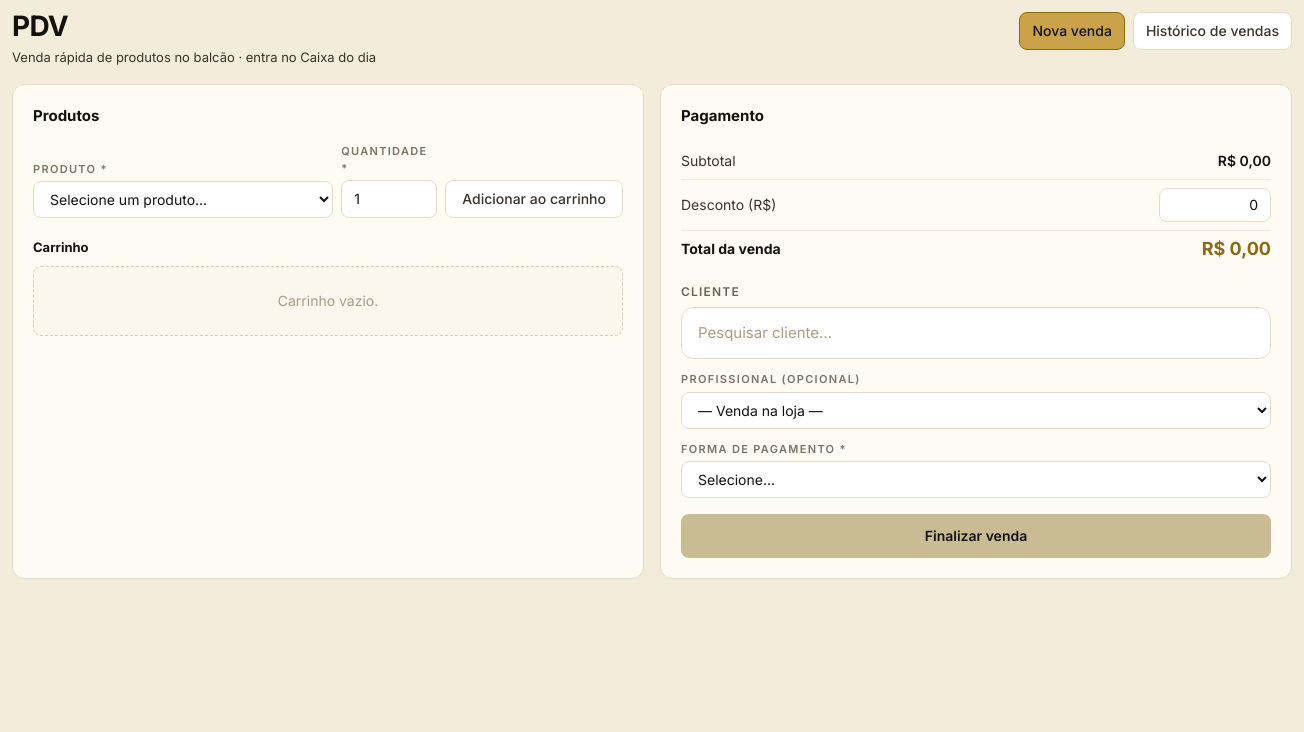
Test: Clientes — integração com PDV, Clube e Relatórios › PDV não oferece cliente inativo no seletor de cliente
# Abre a busca e confere a lista offered pelo cadastro oficial.
Focus the dropdown labelled "Cliente" at [976, 333], box [681,307,1271,359]
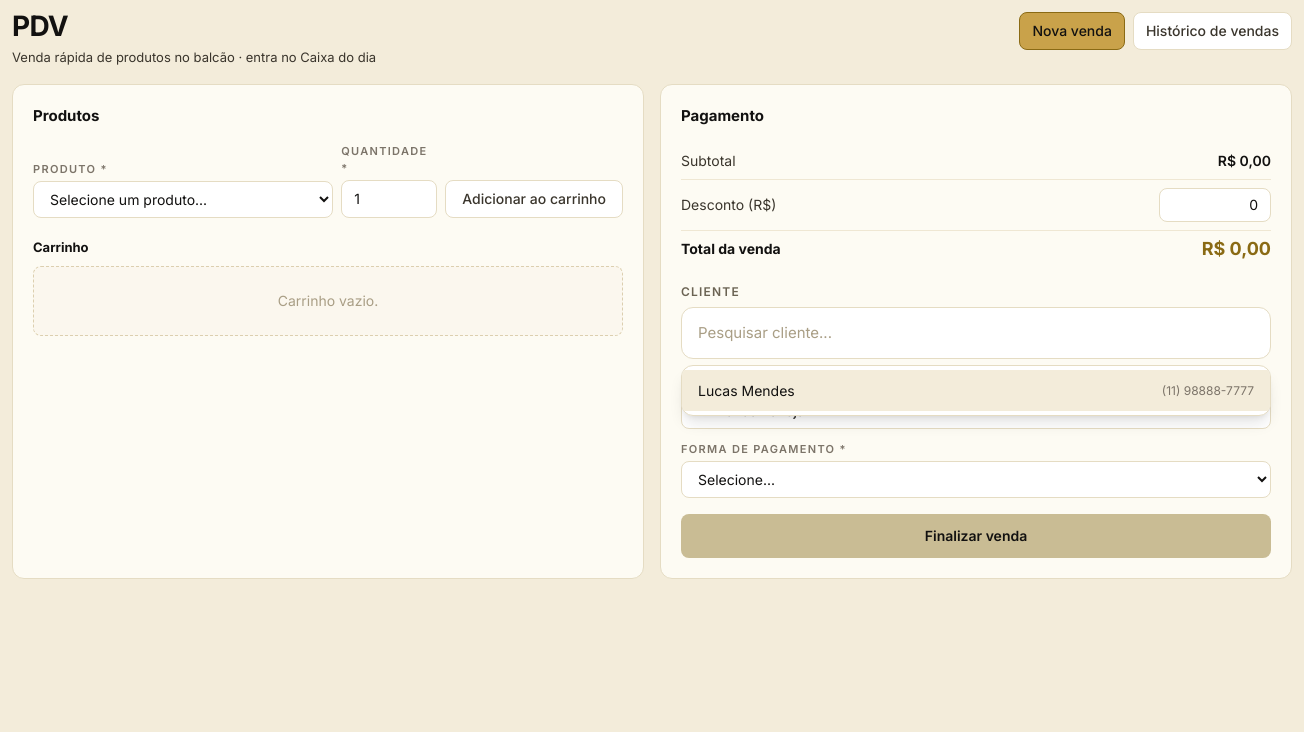
Check: the option "Lucas Mendes (11) 98888-7777" is shown, box [682,370,1270,411]
